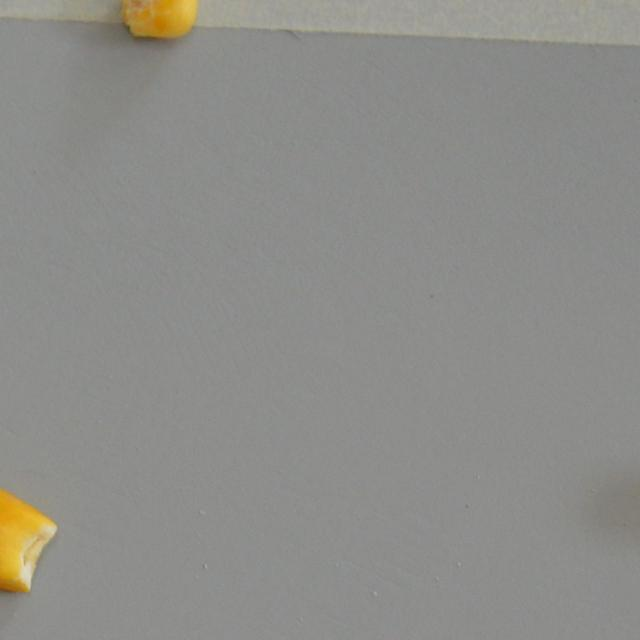pelicula: (0, 480, 59, 596), (116, 0, 200, 41)
